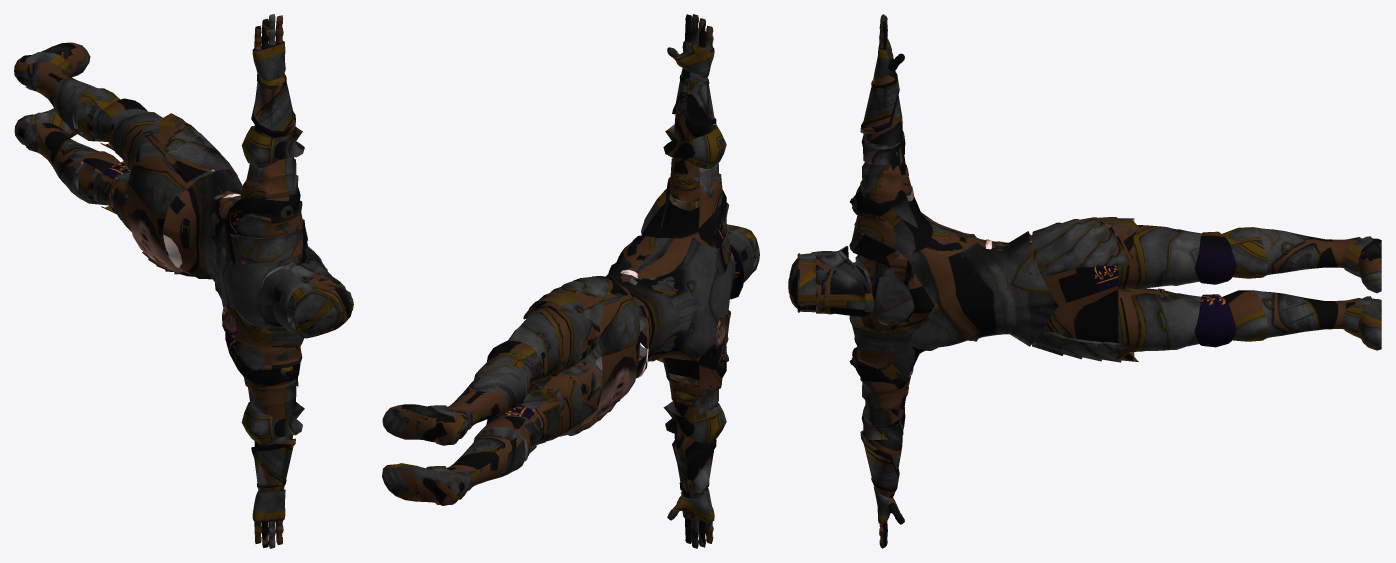
3 views of the same model, side by side, from view 1: azimuth 30°, elevation 25°; view 2: azimuth 150°, elevation 25°; view 3: azimuth 270°, elevation 25° (orthographic).
Parts seen in each view (by area): view 1: export_mesh_Paladin_J_Nordstrom.003; view 2: export_mesh_Paladin_J_Nordstrom.003; view 3: export_mesh_Paladin_J_Nordstrom.003.
Boxes of the visible parts, x1,y1,x2,y2 form: export_mesh_Paladin_J_Nordstrom.003: (14,14,353,548); export_mesh_Paladin_J_Nordstrom.003: (382,14,759,548); export_mesh_Paladin_J_Nordstrom.003: (788,14,1381,548).
Bounding box in the file's own units: 0.3405 × 1.7 × 1.73.
Materials: 1 (1 with a texture image).
